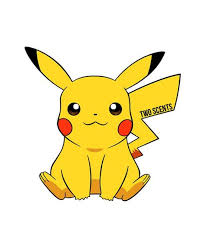Pikachu: (18, 40, 184, 201)
